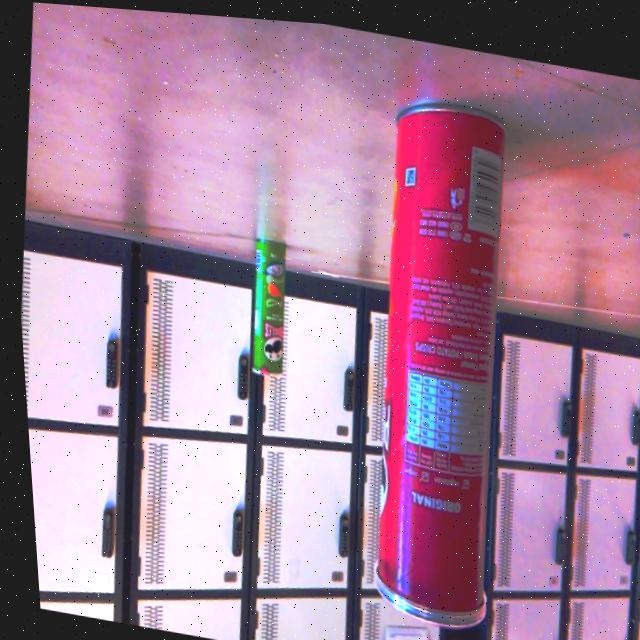greenpringles: (223, 219, 303, 385)
redpringles: (320, 66, 544, 640)
